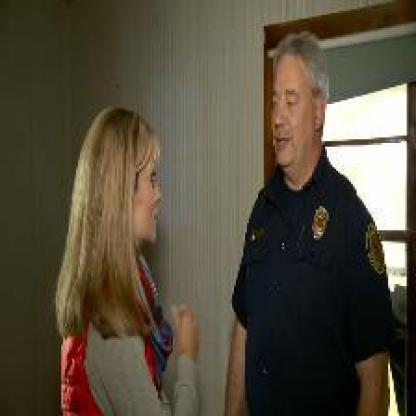other: (135, 270, 168, 370), (63, 278, 88, 406)
